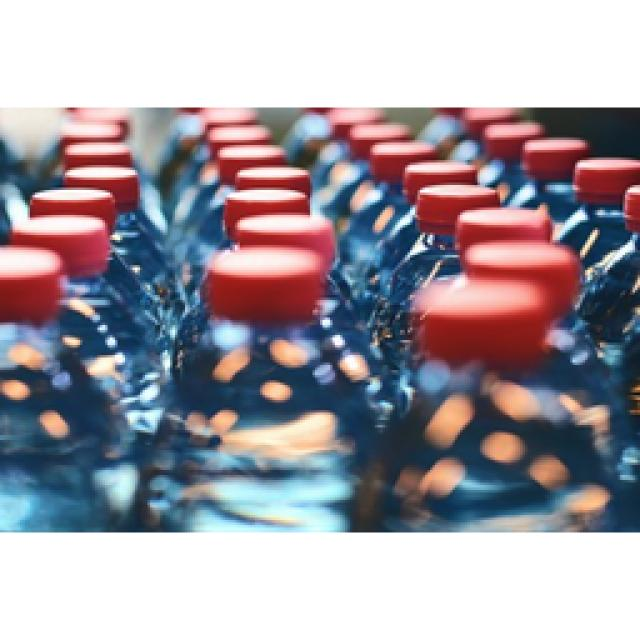plastic_water_bottles: (170, 245, 355, 520)
